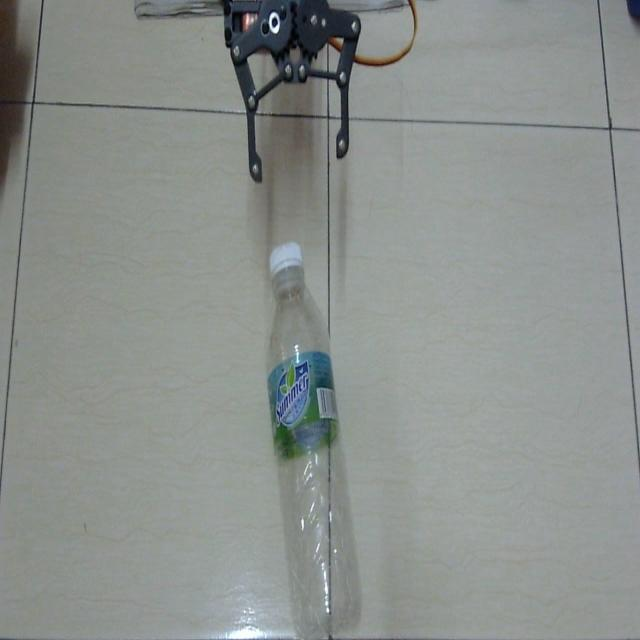Plastic-laydown_0-rotation: (262, 231, 361, 638)
